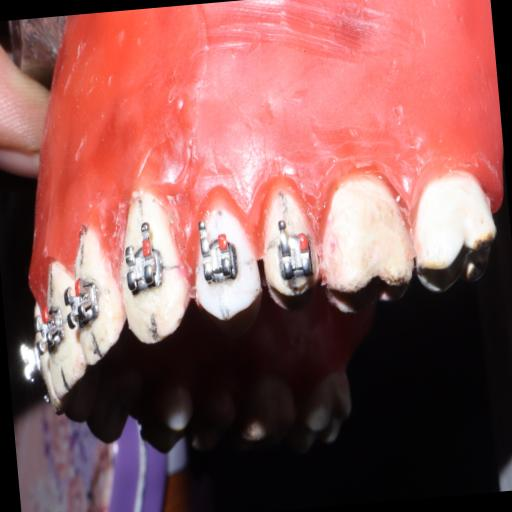correct_brace: (180, 182, 264, 327)
incorrect_brace: (194, 214, 248, 289)
